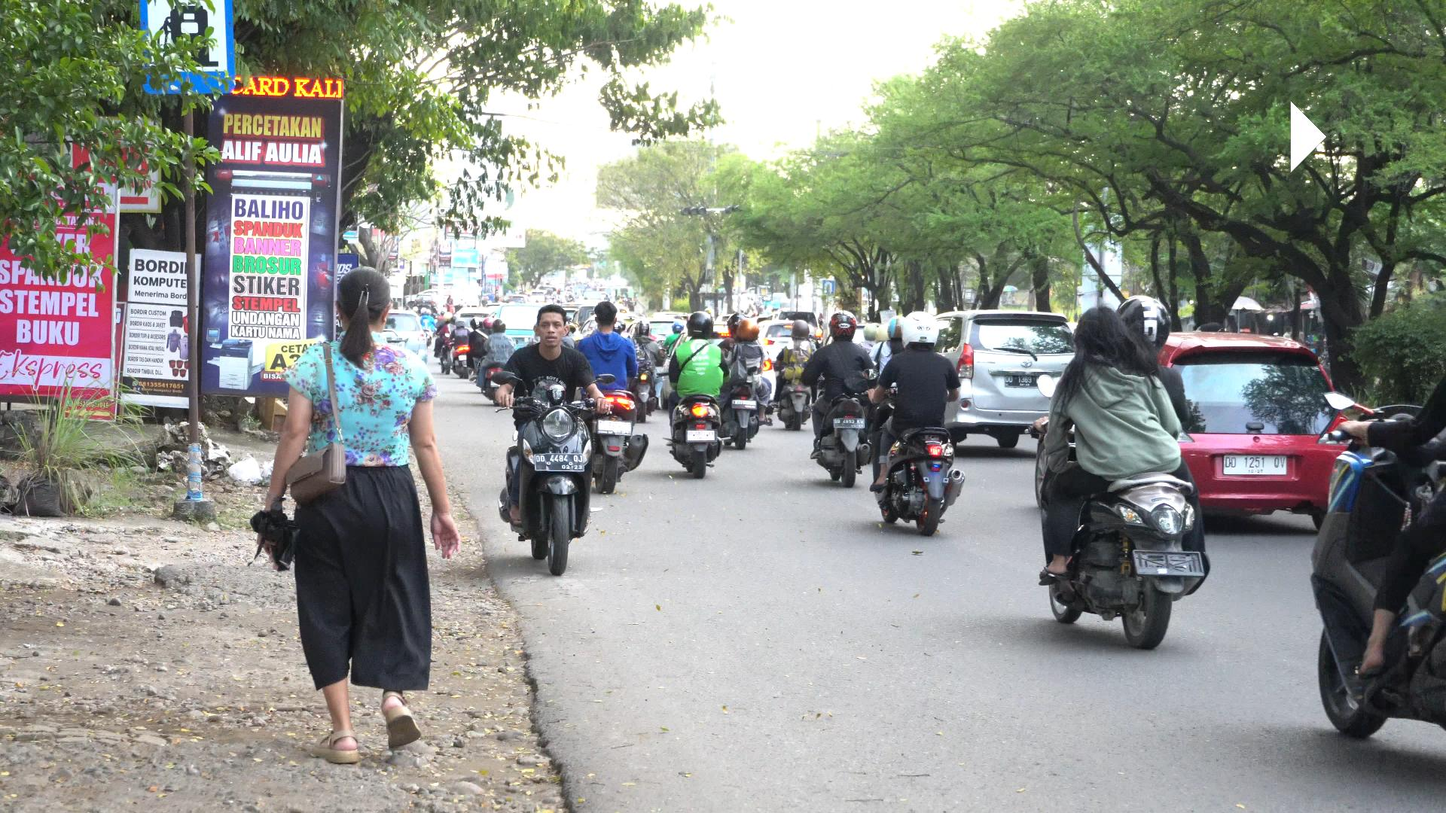number-plate: (532, 450, 586, 474)
